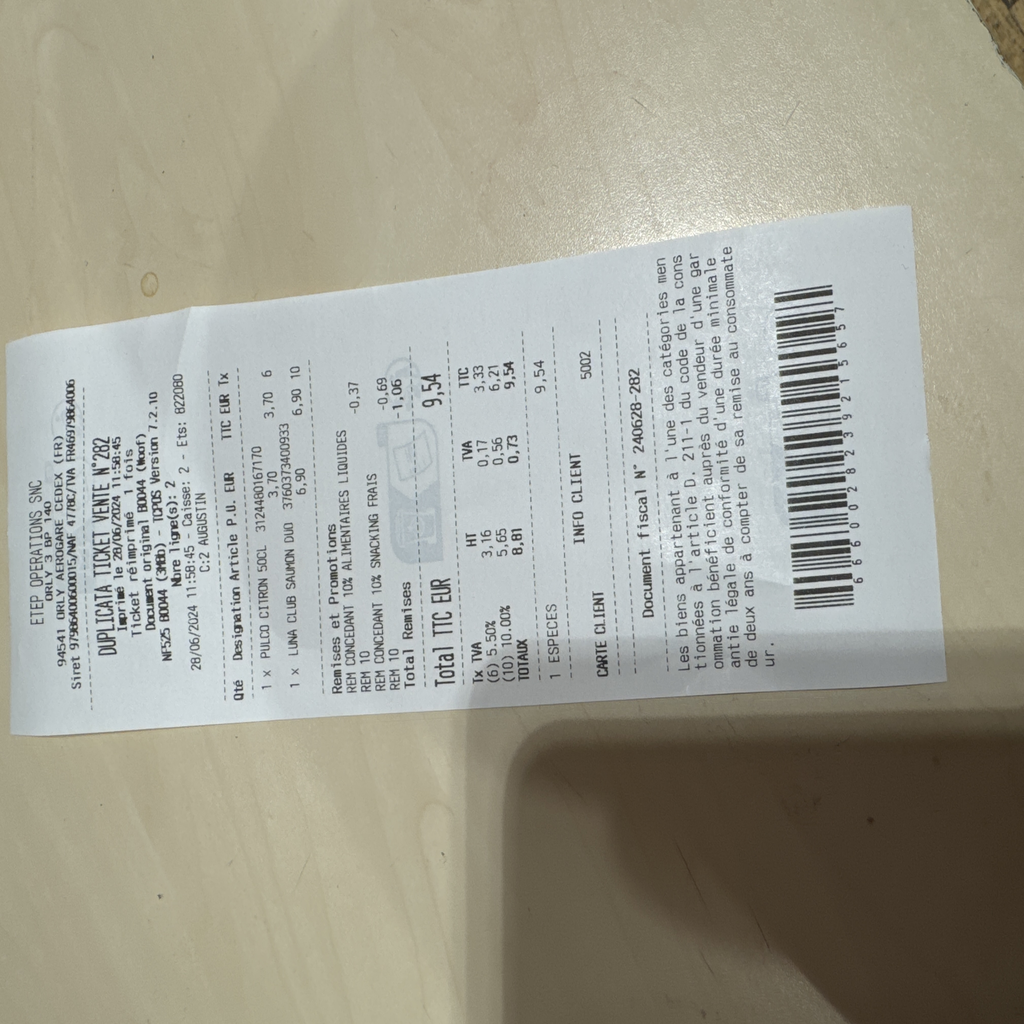recipt: (6, 208, 948, 736)
